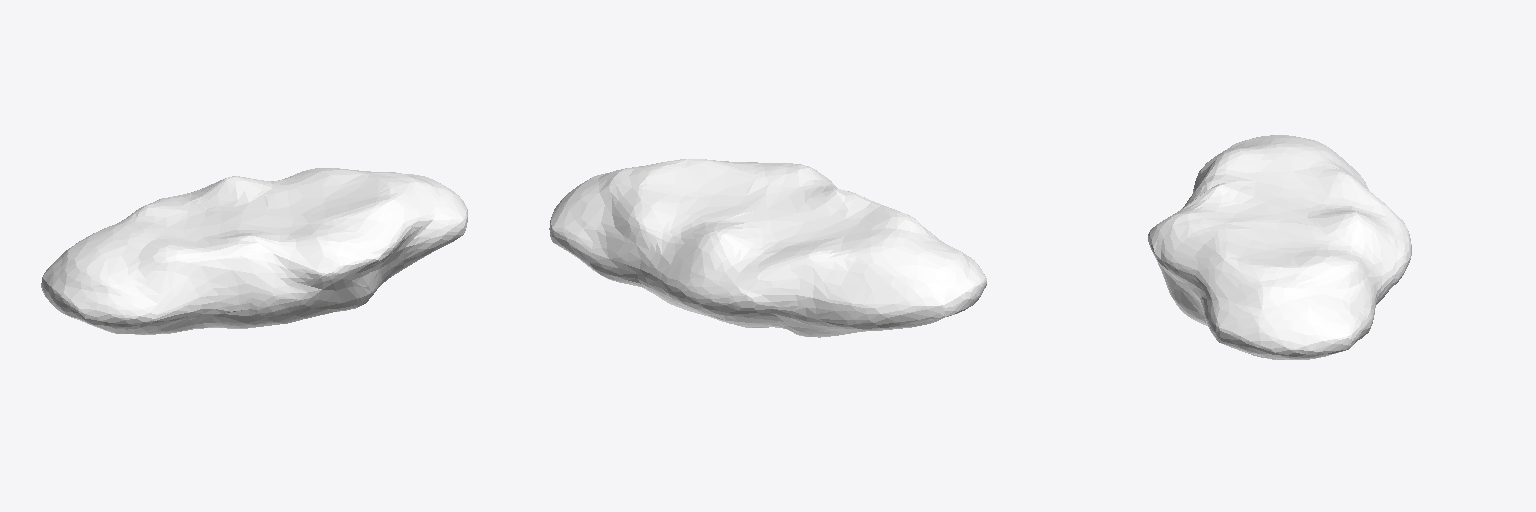
File: under_cloud.obj
The picture shows the model from 3 angles: view 1: azimuth 30°, elevation 25°; view 2: azimuth 150°, elevation 25°; view 3: azimuth 270°, elevation 25°; orthographic projection.
Parts seen in each view (by area): view 1: Clouds.047; view 2: Clouds.047; view 3: Clouds.047.
Boxes of the visible parts, x1=… form: Clouds.047: x1=41, y1=168, x2=467, y2=334; Clouds.047: x1=549, y1=159, x2=986, y2=337; Clouds.047: x1=1148, y1=135, x2=1411, y2=359.
Bounding box in the file's own units: 20.17 × 4.9 × 11.3.